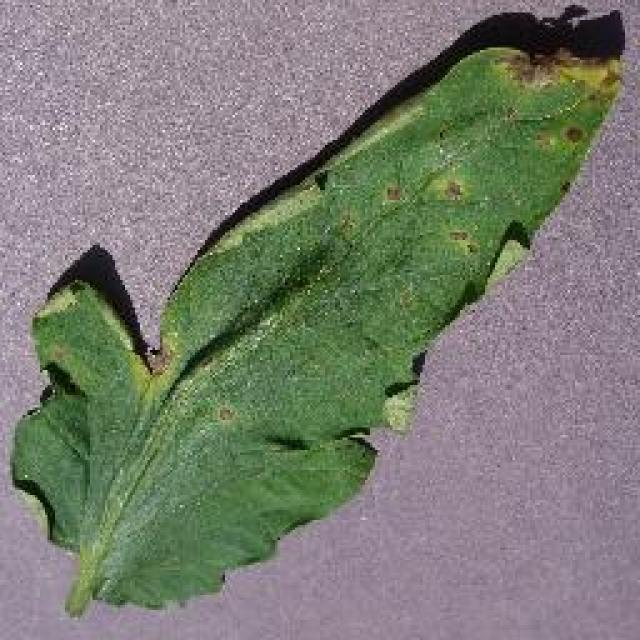Tomato Septoria spot leaf: (15, 44, 626, 608)
